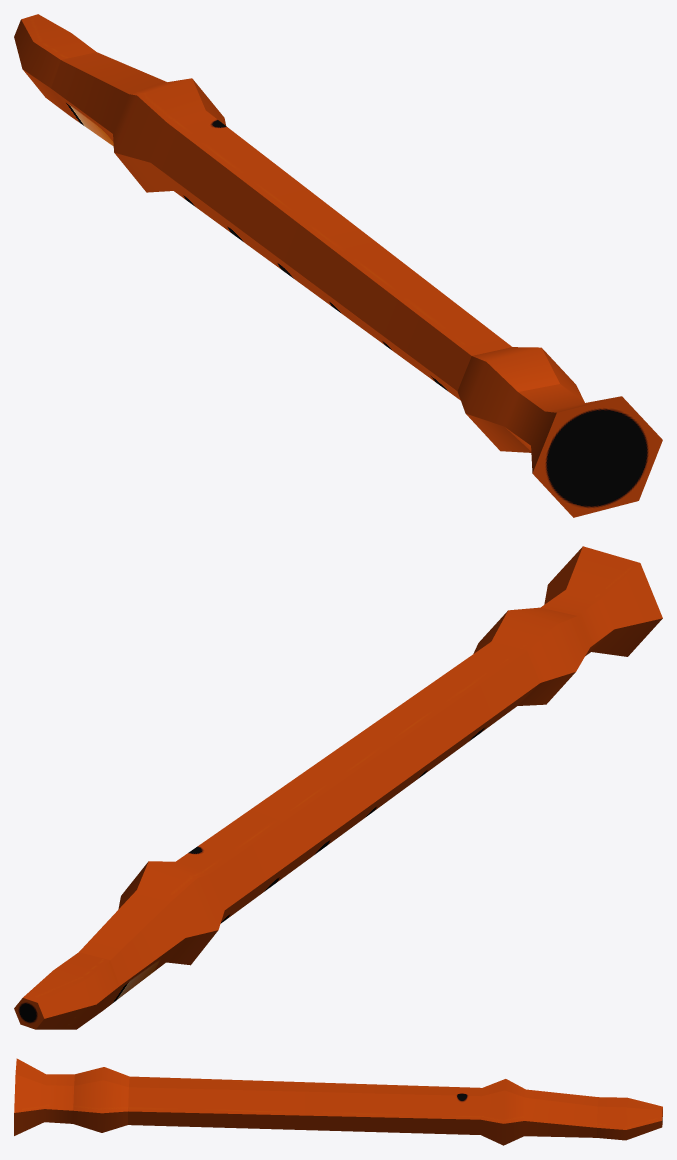
File: flauta2_000011.obj
3 renders of one model, top to bottom at view 1: azimuth 30°, elevation 25°; view 2: azimuth 150°, elevation 25°; view 3: azimuth 270°, elevation 25°, orthographic. The views are drawn at different scales.
Parts seen in each view (by area): view 1: f2_Flauta_1:pCylinder3; view 2: f2_Flauta_1:pCylinder3; view 3: f2_Flauta_1:pCylinder3.
Part boxes in pixels (left/top/right/bottom): f2_Flauta_1:pCylinder3: left=14, top=14, right=662, bottom=517; f2_Flauta_1:pCylinder3: left=14, top=546, right=662, bottom=1029; f2_Flauta_1:pCylinder3: left=14, top=1058, right=662, bottom=1145.
Bounding box in the file's own units: 0.6999 × 0.5711 × 5.1.
